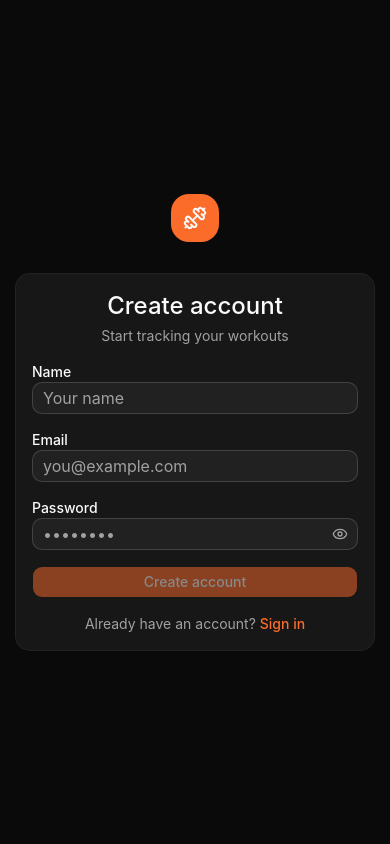
Test case: RegisterPage — error handling › shows a generic fallback when the API returns no detail
Type "Alice" into the field labelled "Name" at (195, 398), box [32,382,358,414]
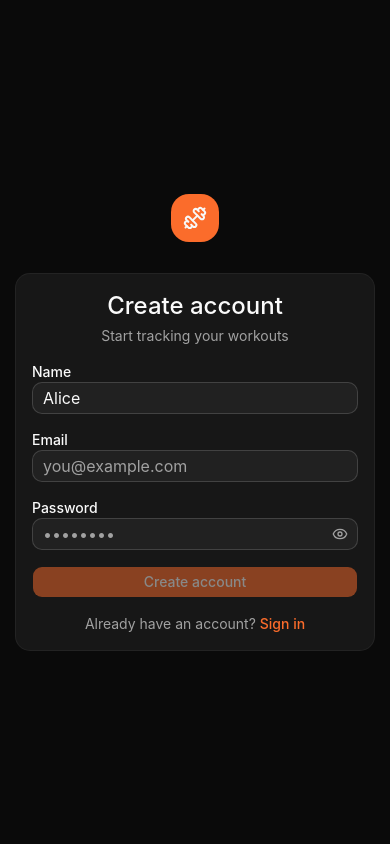
Type "alice@example.com" into the field labelled "Email" at (195, 466), box [32,450,358,482]
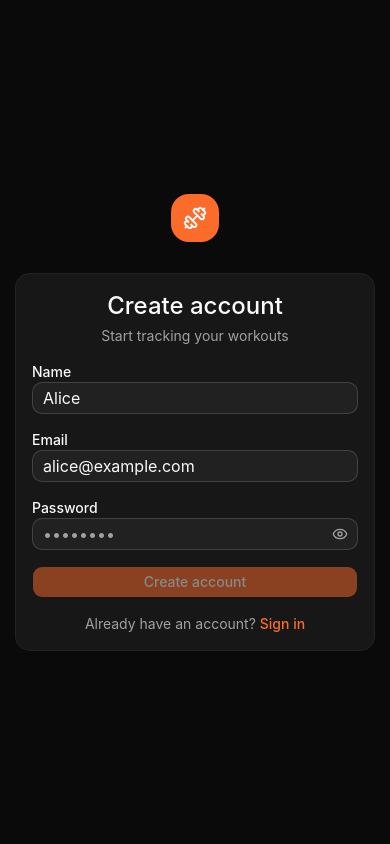
Type "Password1" into the password field labelled "Password" at (195, 534), box [32,518,358,550]
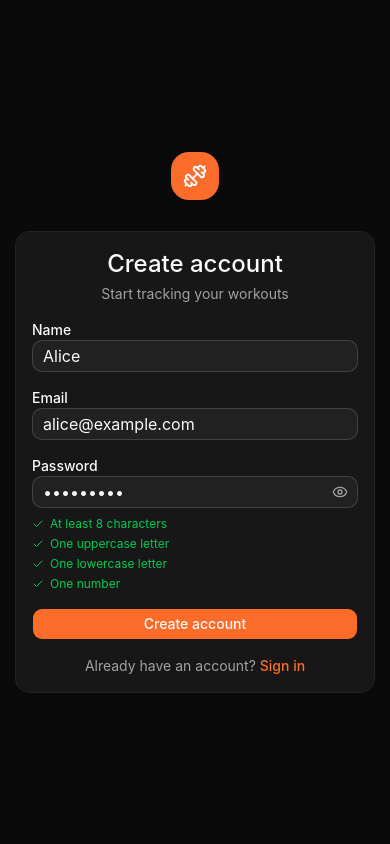
Submit the form named "create account", box [32,320,358,640]
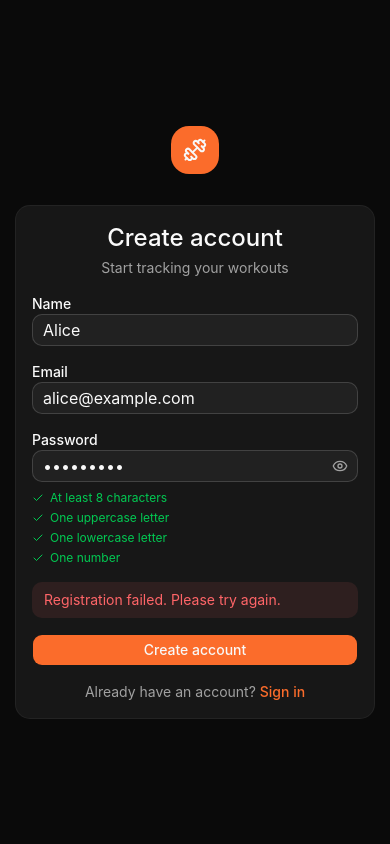
expect the text "Registration failed. Please try again." is shown: met, box [32,582,358,618]
